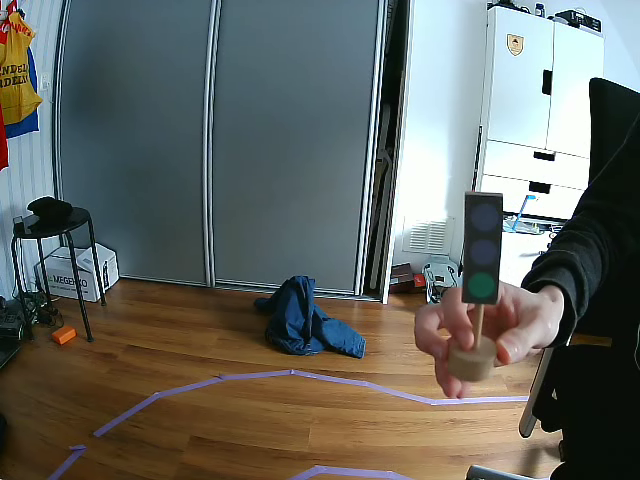groenlicht: (463, 195, 504, 305)
